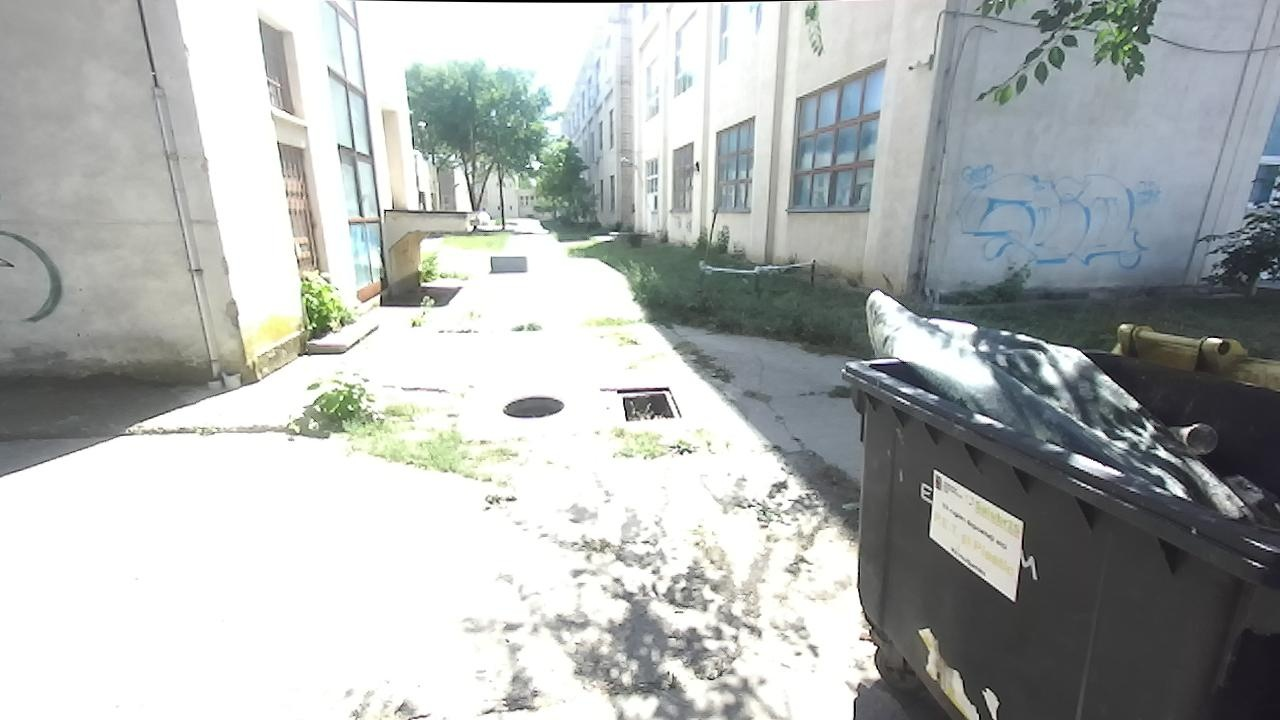drain: (614, 387, 684, 423), (499, 390, 567, 419)
